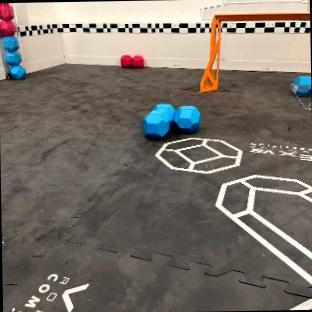Goal: (198, 1, 309, 92)
V5_BLUE: (142, 103, 200, 137), (2, 36, 24, 78), (291, 75, 310, 95)
V5_RED: (0, 3, 15, 35), (131, 54, 143, 67), (120, 55, 131, 66)
